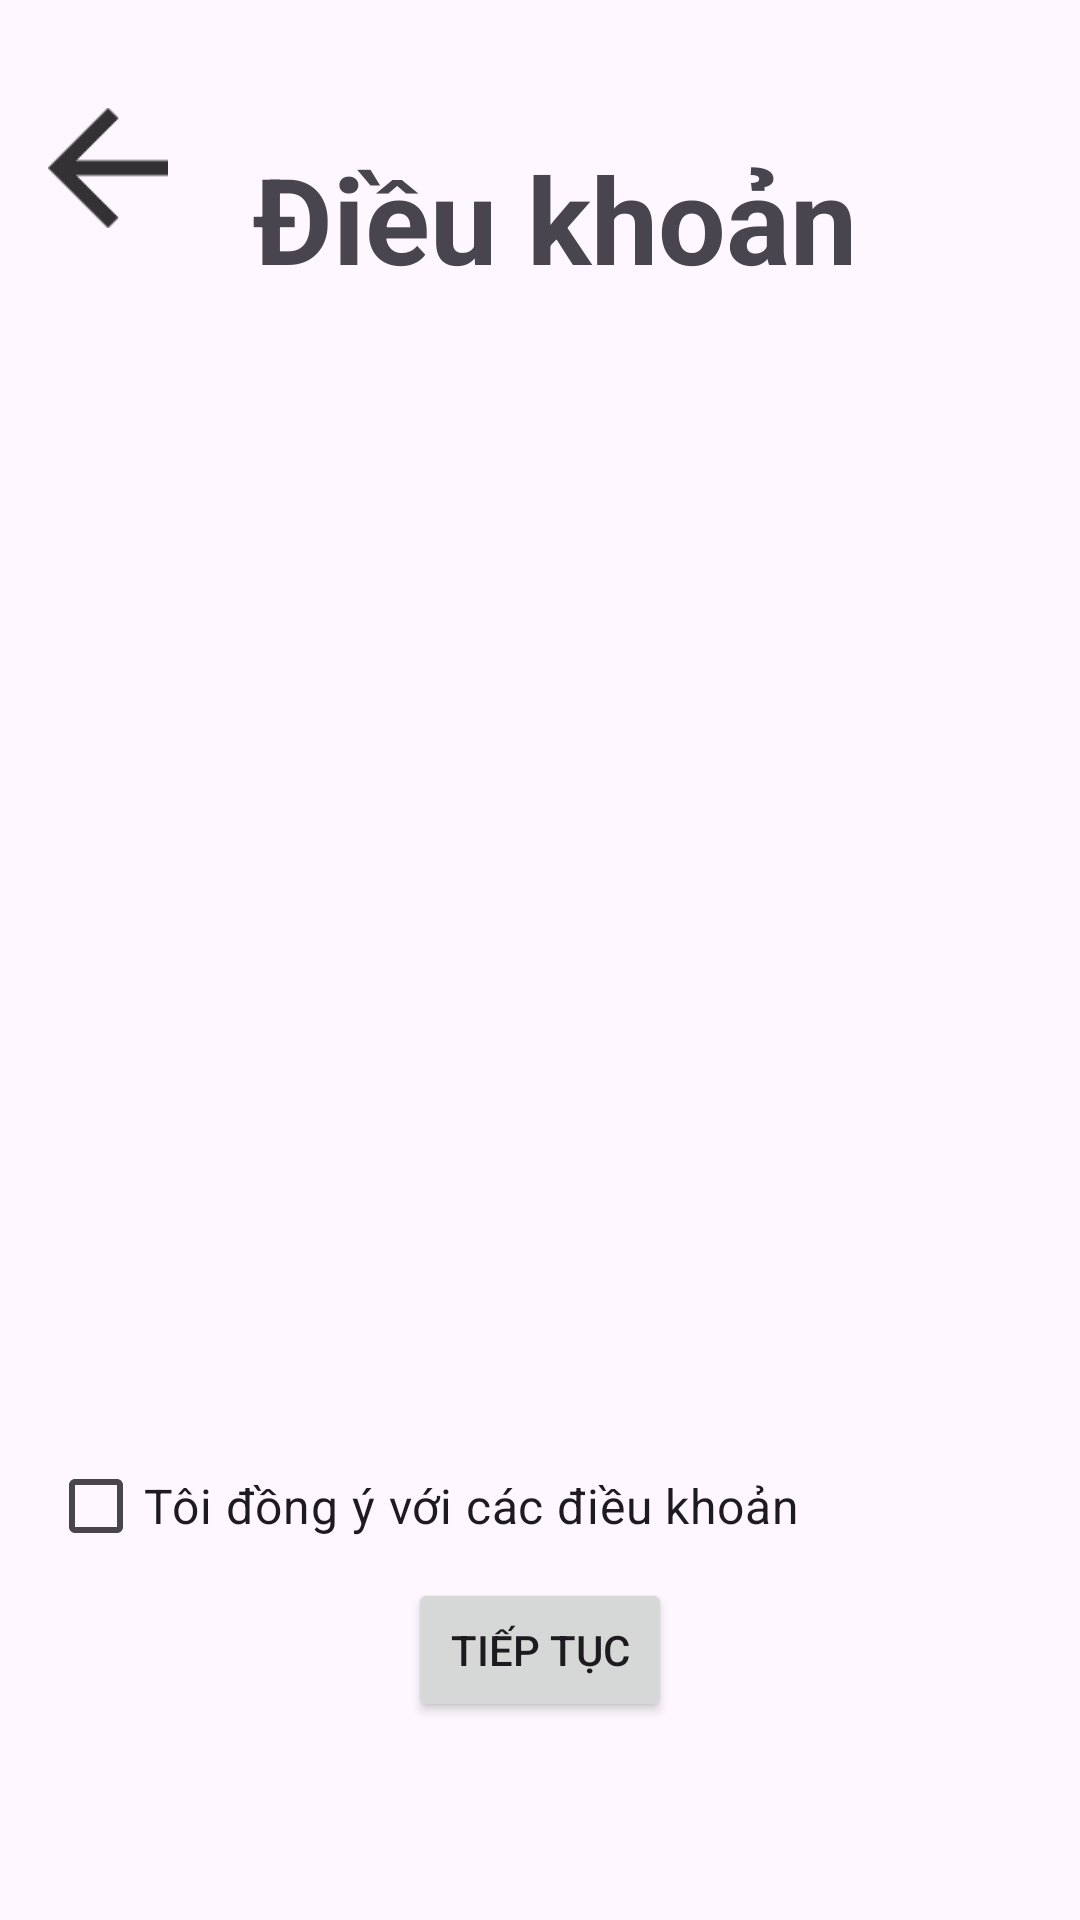

Icon bounding boxes for this 1080*1920 phone screenshot, format (x1, y1, x2, y2):
arrowback: (48, 108, 168, 228)
